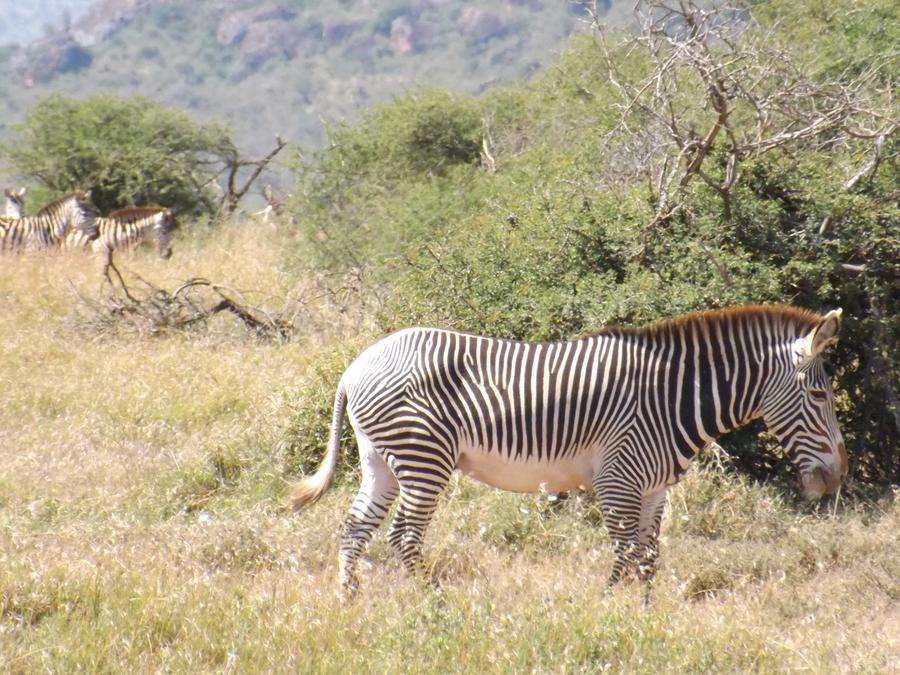zebra_grevys: (326, 308, 659, 497)
